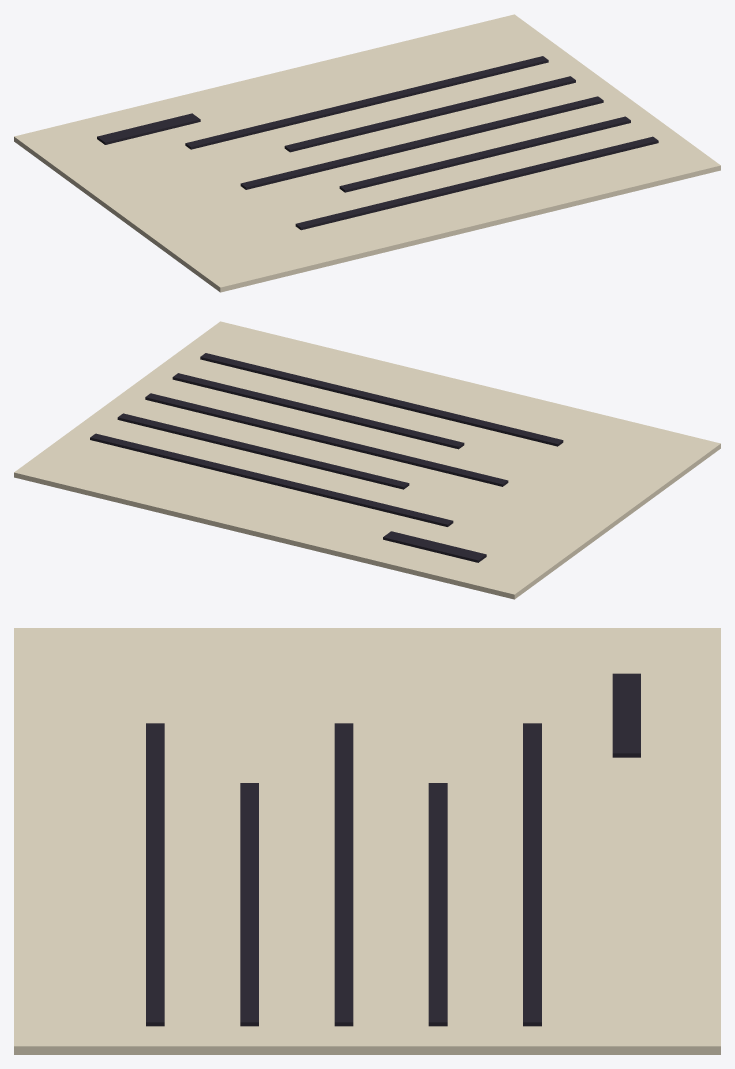
Rendered from SM_PRP_Bilhete.fbx.
3 renders of one model, top to bottom at view 1: azimuth 30°, elevation 25°; view 2: azimuth 150°, elevation 25°; view 3: azimuth 270°, elevation 25°, orthographic. The views are drawn at different scales.
Visible parts, largest first — view 1: SM_PRP_Bilhete; view 2: SM_PRP_Bilhete; view 3: SM_PRP_Bilhete.
Boxes of the visible parts, box(x1,y1,x2,y2) form: SM_PRP_Bilhete: box(14, 14, 720, 292); SM_PRP_Bilhete: box(14, 321, 720, 599); SM_PRP_Bilhete: box(14, 628, 720, 1054).
Size of the model in its own units: 0.21 by 0.003 by 0.15.
